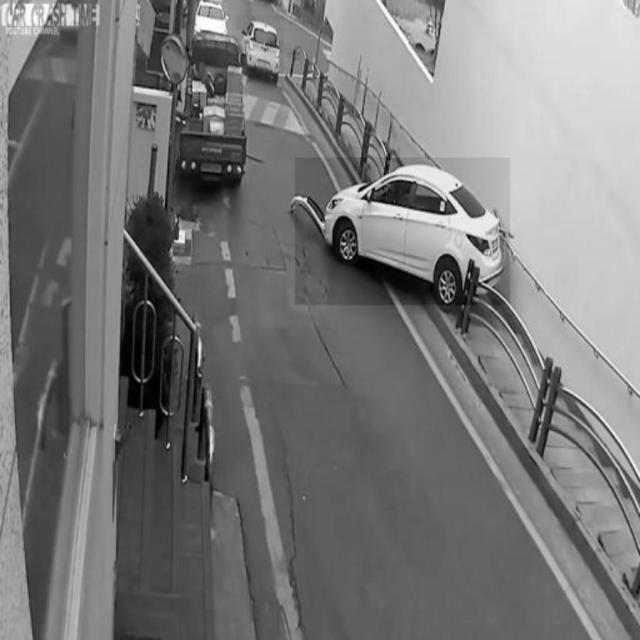accident: (295, 158, 510, 305)
vehicle: (182, 30, 249, 184), (237, 15, 284, 83)
